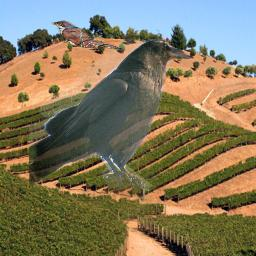Crow: (29, 39, 193, 189)
Cuckoo: (51, 19, 123, 54)
